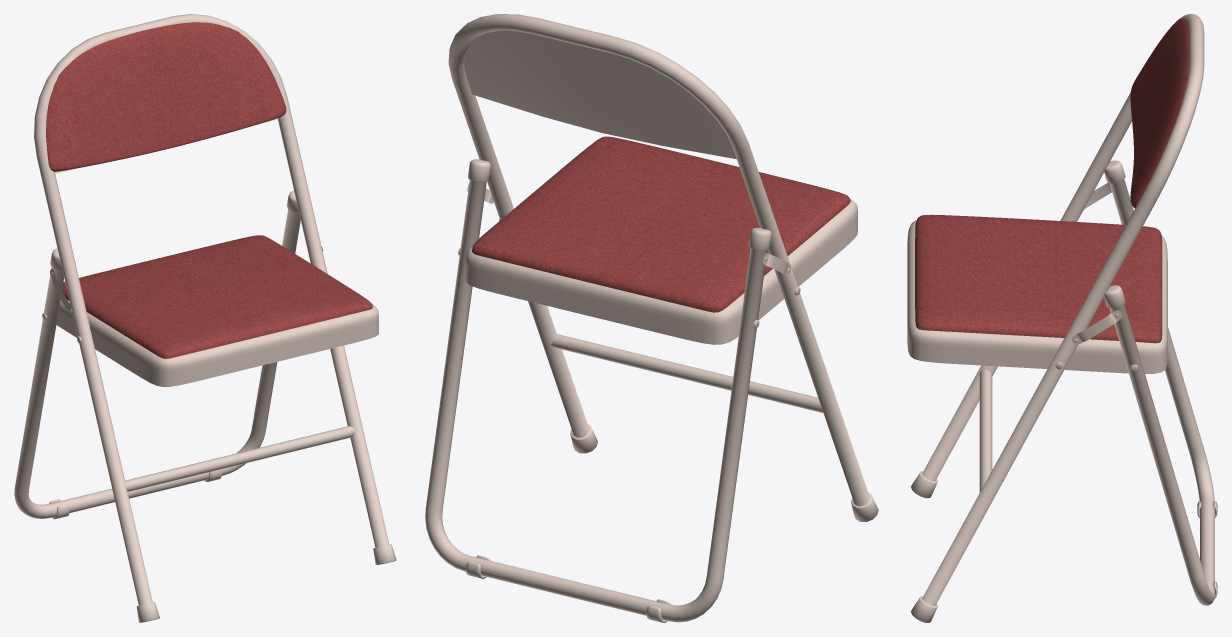
The model's file is chair_04_03.001.fbx.
The picture shows the model from 3 angles, left to right: view 1: azimuth 30°, elevation 25°; view 2: azimuth 150°, elevation 25°; view 3: azimuth 270°, elevation 25°; orthographic projection. The views are drawn at different scales.
Visible parts, largest first — view 1: chair_04_03.001; view 2: chair_04_03.001; view 3: chair_04_03.001.
Part boxes in pixels (x1=…): chair_04_03.001: x1=14, y1=14, x2=396, y2=622; chair_04_03.001: x1=425, y1=14, x2=878, y2=622; chair_04_03.001: x1=907, y1=14, x2=1217, y2=622.
Bounding box in the file's own units: 45.16 × 80.7 × 43.99.
Materials: 1 (1 with a texture image).
